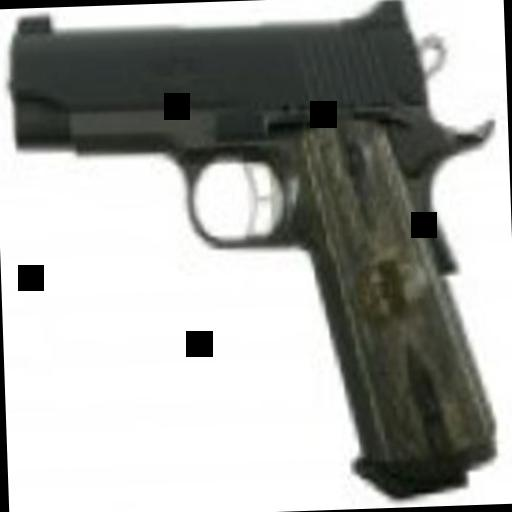Handgun: (12, 0, 506, 512)
